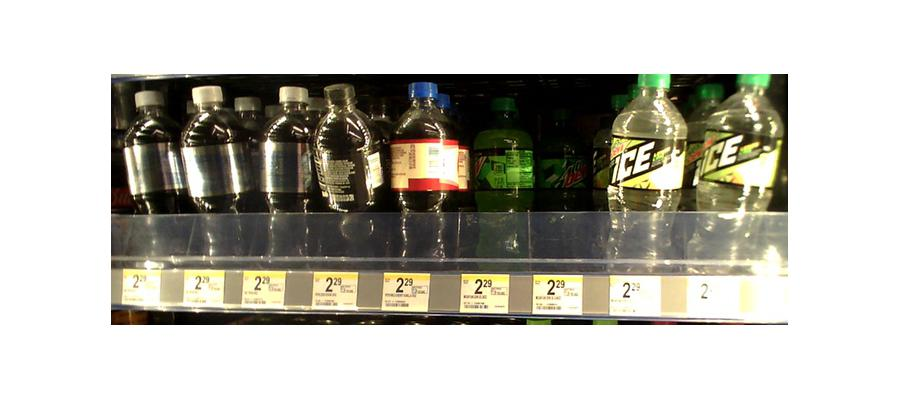bottle: (687, 70, 782, 275), (607, 68, 689, 277), (176, 85, 262, 267), (383, 83, 464, 266), (313, 83, 382, 256), (122, 84, 185, 271), (255, 83, 313, 266), (471, 103, 531, 261), (537, 130, 597, 276)
